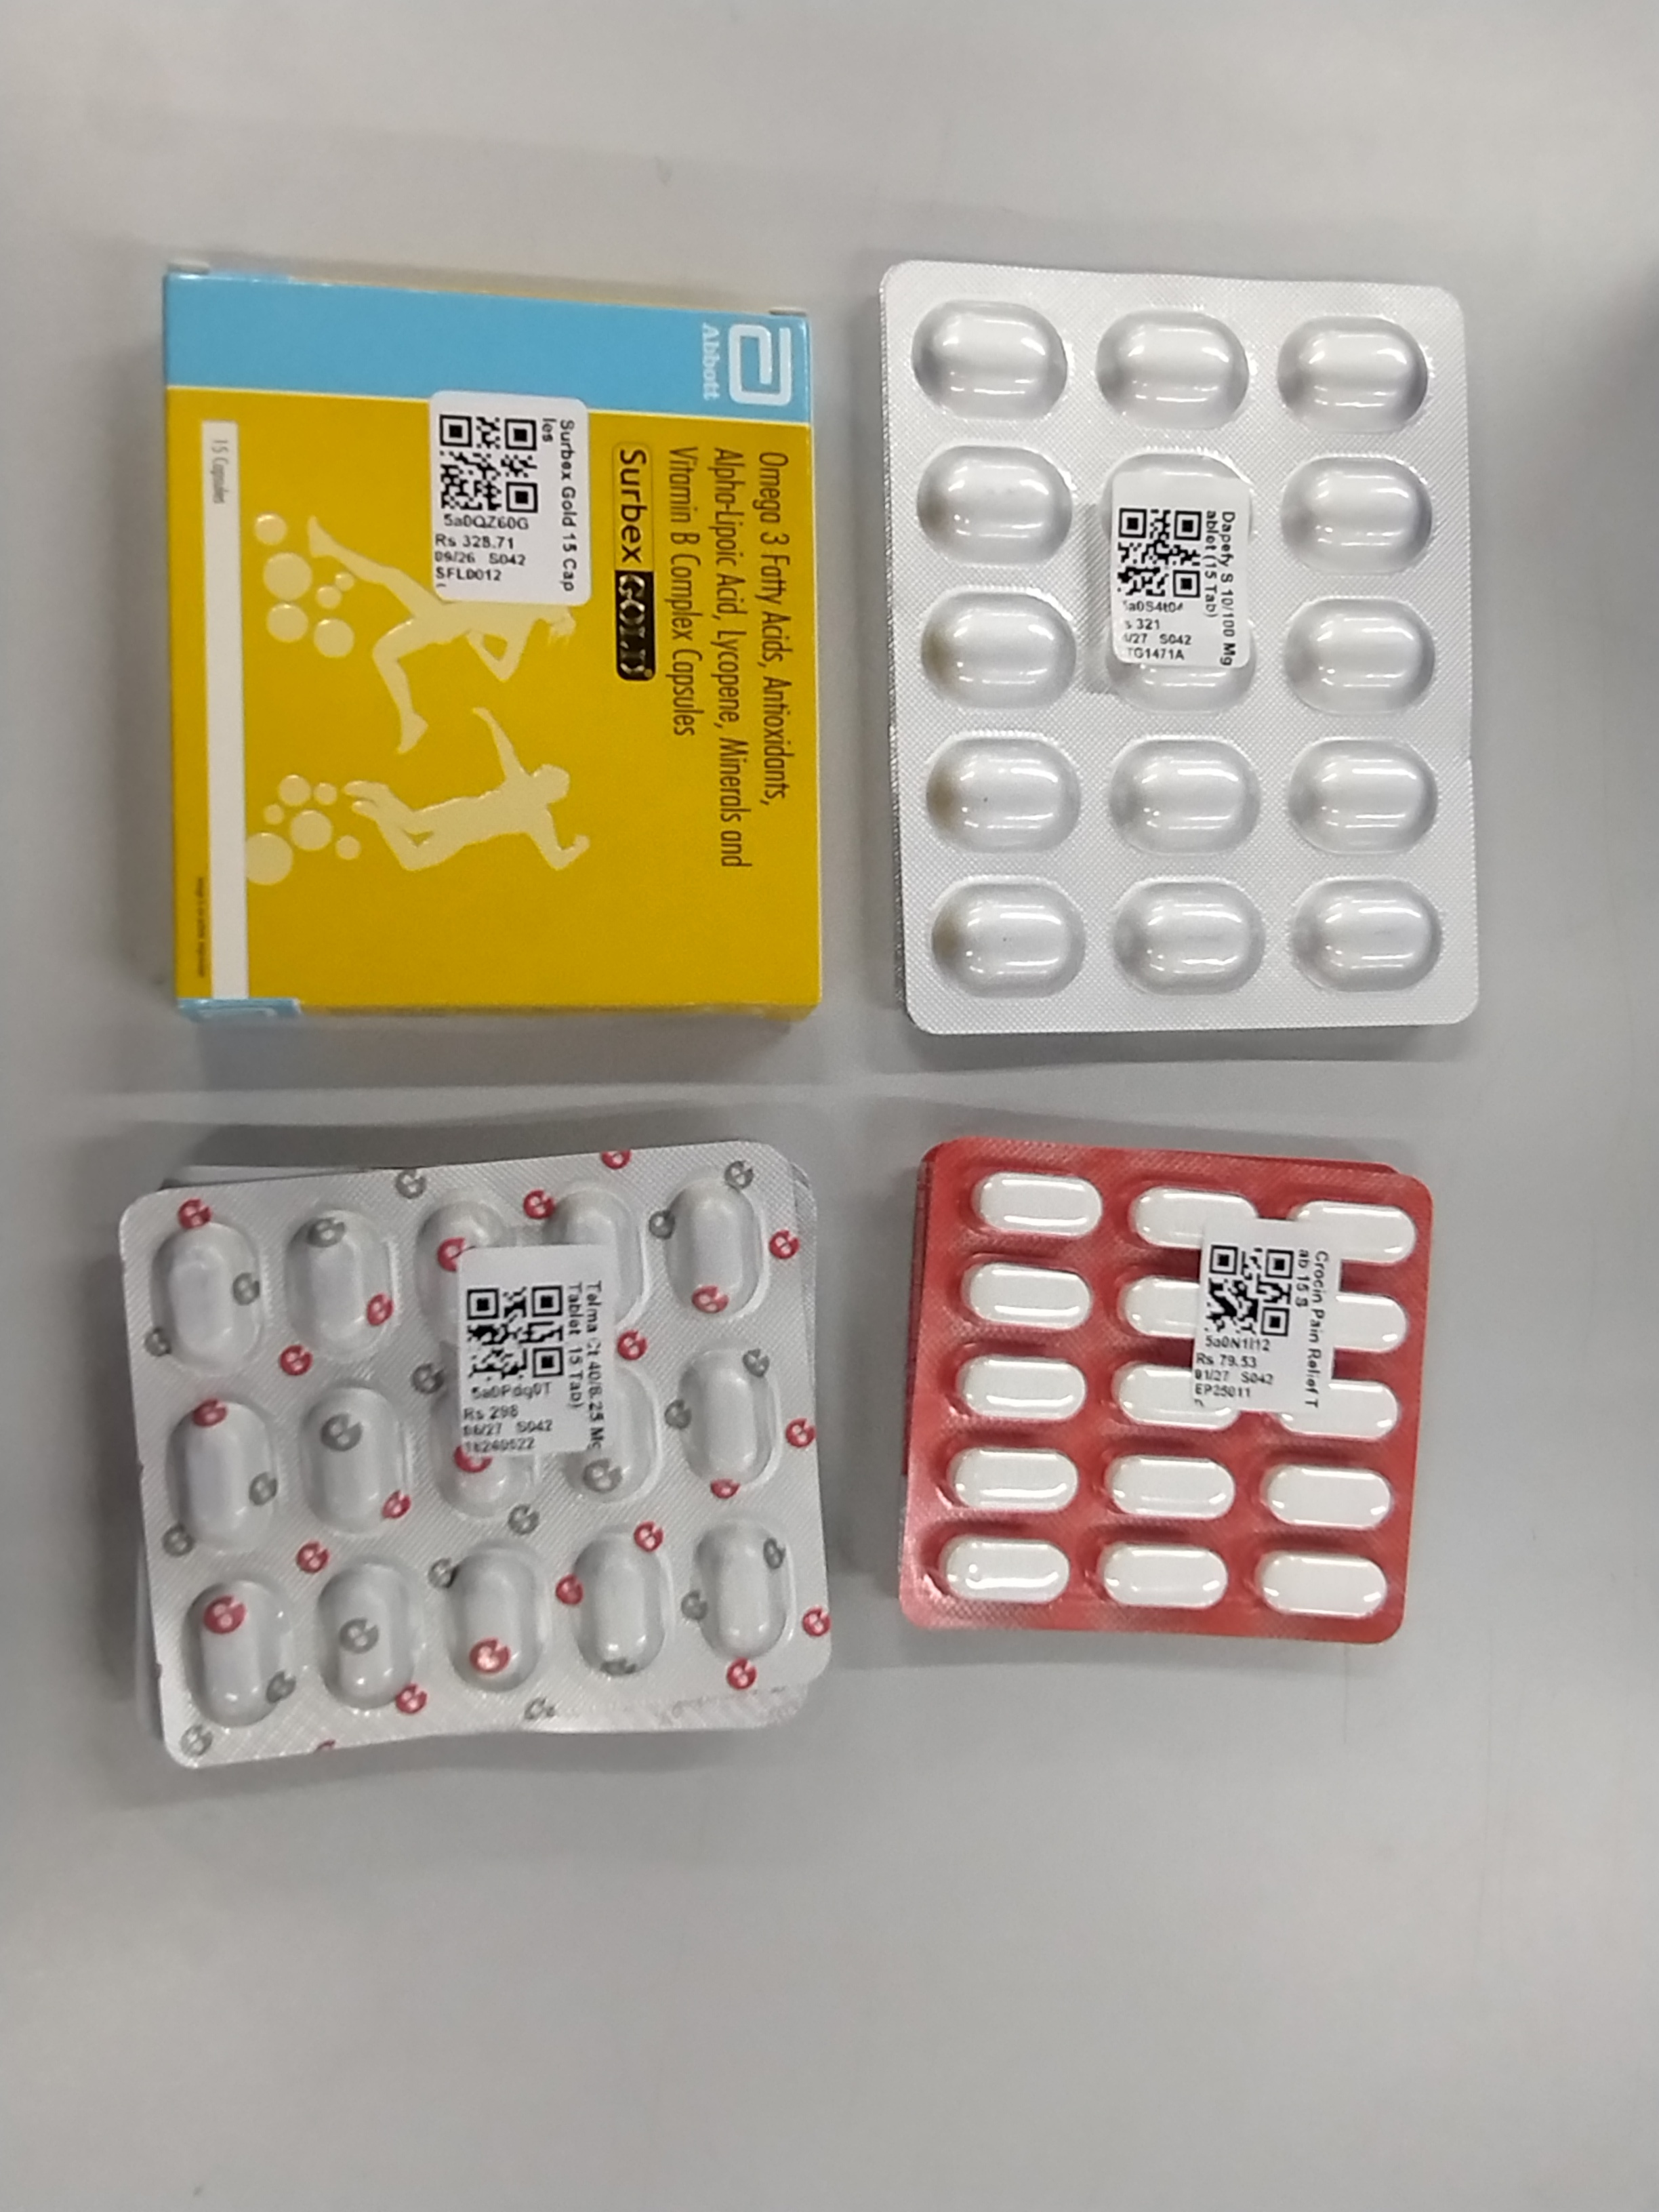QR: (437, 364, 537, 463), (465, 1235, 565, 1334), (1202, 1197, 1293, 1291), (1114, 462, 1202, 552)
